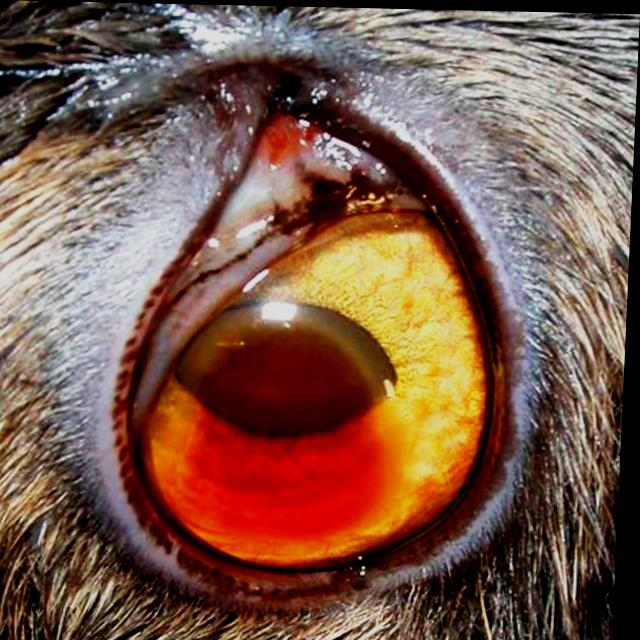eye_infection: (141, 136, 501, 556)
